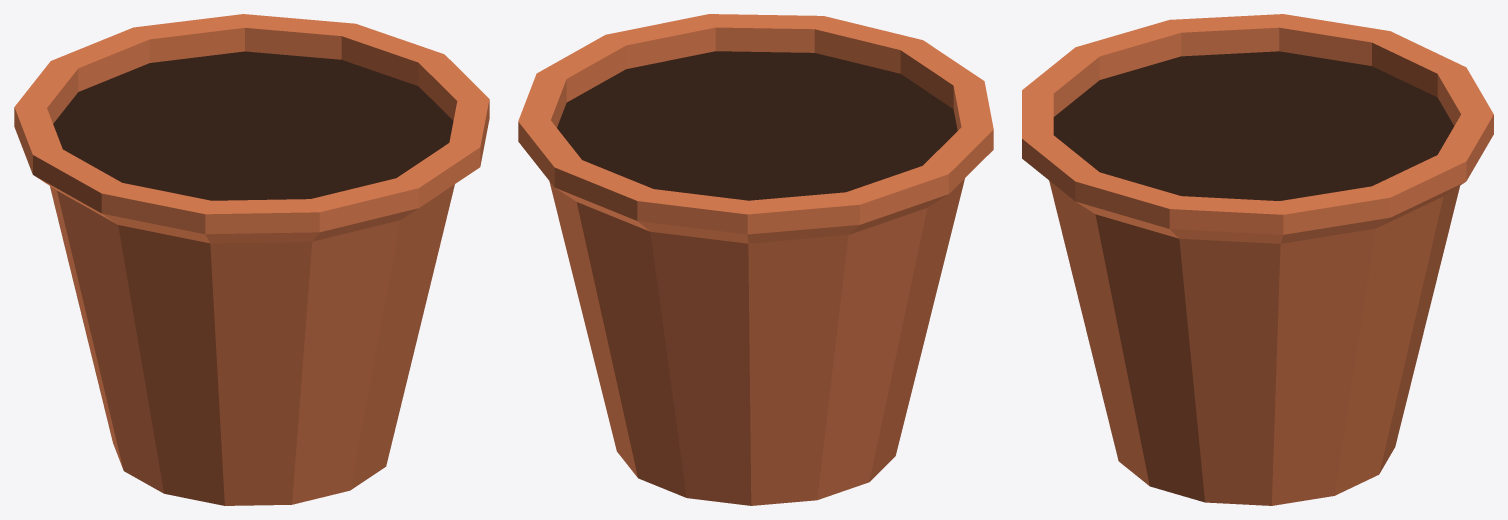
File: PotDirtNew.fbx
The picture shows the model from 3 angles, left to right: view 1: azimuth 30°, elevation 25°; view 2: azimuth 150°, elevation 25°; view 3: azimuth 270°, elevation 25°; orthographic projection.
Parts seen in each view (by area): view 1: Cylinder; view 2: Cylinder; view 3: Cylinder.
Boxes of the visible parts, x1,y1,x2,y2 form: Cylinder: (14, 14, 489, 505); Cylinder: (518, 14, 993, 505); Cylinder: (1022, 14, 1493, 505).
Size of the model in its own units: 278 by 215 by 276.
